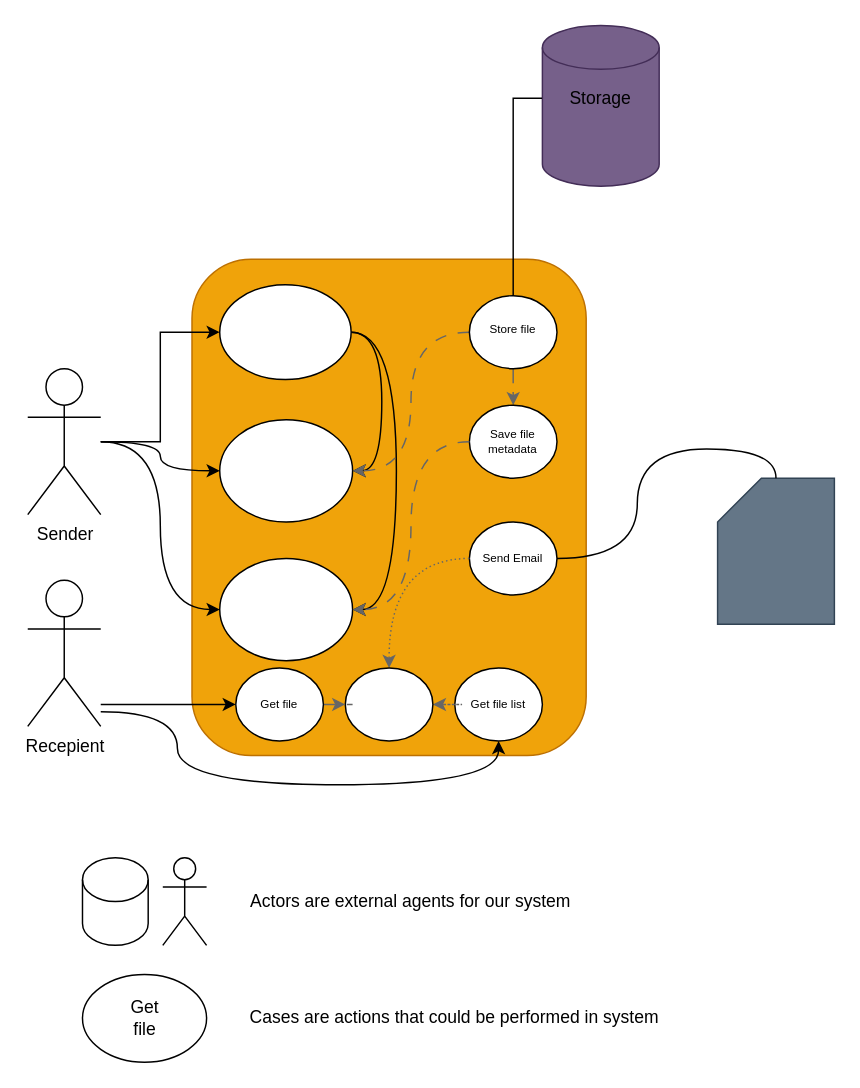
The diagram is 860 pixels wide and 1088 high, and some of its shapes have lost their labels. The shapes that lost their labels are listed below. From the top down, each one's box as (x1, y1, x2, y2) in pixels, then its label:
(218, 283, 351, 380): Send file
(218, 418, 353, 522): Upload file
(716, 477, 834, 624): Email Service
(218, 557, 353, 661): Specify recepient
(344, 666, 433, 741): Get available
